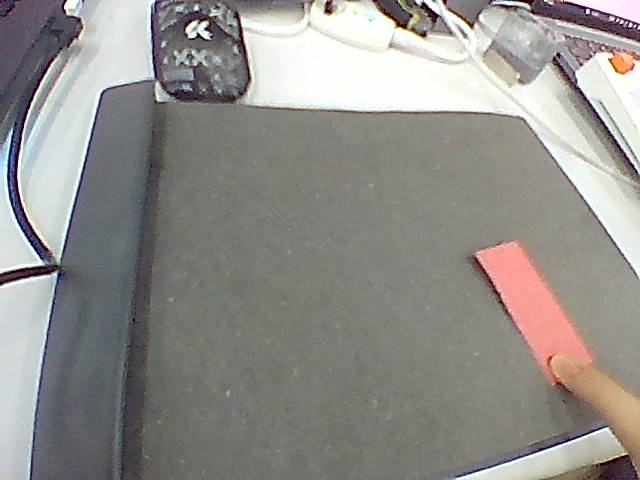card: (476, 241, 591, 383)
